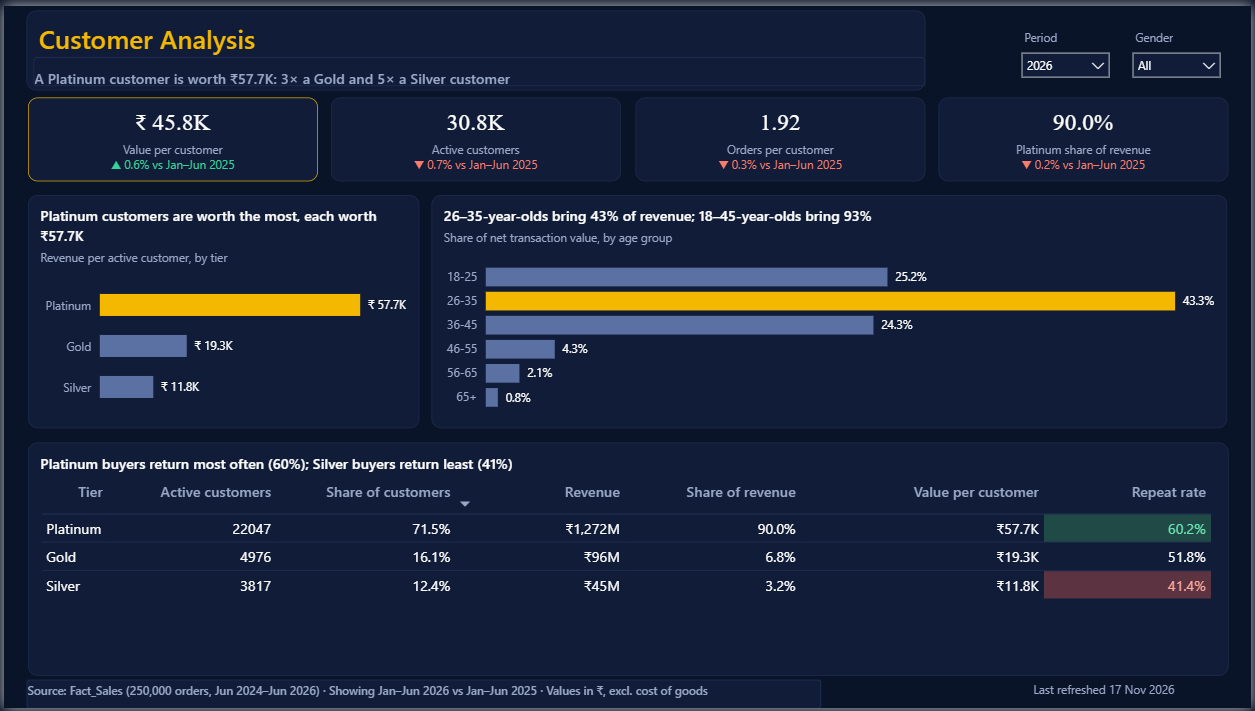

Layout of this report page (visuals, bound fields, positions):
{"tool":"powerbi","page":{"name":"Customer Analysis","canvas":[1280,720],"ordinal":2},"visuals":[{"type":"slicer","fields":{"Values":["Dim_Date.Year","Dim_Date.Month"]},"box":[903,6,185.1,62.7],"z":0},{"type":"slicer","fields":{"Values":["Dim_Customers.gender"]},"box":[1088.3,4.9,185,61.6],"z":1000},{"type":"cardVisual","fields":{"Data":["_Measure.Total Customers","_Measure.Net Transaction Value","_Measure.Orders per Customer","_Measure.Value per Customer"]},"box":[4.7,79.1,1268.6,72.9],"z":2000},{"type":"clusteredBarChart","title":"Customer Tier Performance","fields":{"Category":["Dim_Customers.customer_tier"],"Y":["_Measure.Net Transaction Value"]},"box":[5.2,387.9,492.8,194.8],"z":3000},{"type":"clusteredColumnChart","title":"Customer Tier: Value vs Customer Count","fields":{"Category":["Dim_Customers.customer_tier"],"Y":["_Measure.Total Customers"]},"box":[4.7,153.5,411,232.6],"z":4000},{"type":"scatterChart","title":"Customer Value vs Purchase Frequency","fields":{"X":["_Measure.Value per Customer"],"Size":["_Measure.Total Customers"],"Y":["_Measure.Orders per Customer"],"Category":["Dim_Customers.customer_tier"]},"box":[502.4,387.8,429.3,195.1],"z":5000},{"type":"clusteredColumnChart","title":"Customer Distribution by Tier","fields":{"Y":["_Measure.Value per Customer by Tier"],"Category":["Dim_Customers.customer_tier"]},"box":[937.5,152.6,336.1,564.6],"z":6000},{"type":"clusteredBarChart","title":"Net Transaction Value by Age Group","fields":{"Y":["_Measure.Net Transaction Value"],"Category":["Dim_Customers.age_group"]},"box":[421.8,153.5,510.2,232.6],"z":7000},{"type":"pivotTable","fields":{"Rows":["Dim_Customers.customer_tier"],"Values":["_Measure.Total Customers","_Measure.Net Transaction Value","_Measure.Total Orders","_Measure.Orders per Customer","_Measure.Value per Customer","_Measure.Repeat Customer Rate"]},"box":[5.2,584.8,926.7,132.5],"z":8000},{"type":"textbox","box":[16.7,3,798,65.1],"z":9000}]}

Visuals, with their boxes in screenshot pixels (x1, y1, x2, y2), scaled from the page's 1280x720 canvas onto the 1255x711 screenshot:
slicer - Dim_Date.Year x Dim_Date.Month: left=885, top=6, right=1067, bottom=68
slicer - Dim_Customers.gender: left=1067, top=5, right=1248, bottom=66
cardVisual - _Measure.Total Customers x _Measure.Net Transaction Value: left=5, top=78, right=1248, bottom=150
"Customer Tier Performance" clusteredBarChart: left=5, top=383, right=488, bottom=575
"Customer Tier: Value vs Customer Count" clusteredColumnChart: left=5, top=152, right=408, bottom=381
"Customer Value vs Purchase Frequency" scatterChart: left=493, top=383, right=914, bottom=576
"Customer Distribution by Tier" clusteredColumnChart: left=919, top=151, right=1249, bottom=708
"Net Transaction Value by Age Group" clusteredBarChart: left=414, top=152, right=914, bottom=381
pivotTable - Dim_Customers.customer_tier x _Measure.Total Customers: left=5, top=577, right=914, bottom=708
textbox: left=16, top=3, right=799, bottom=67
